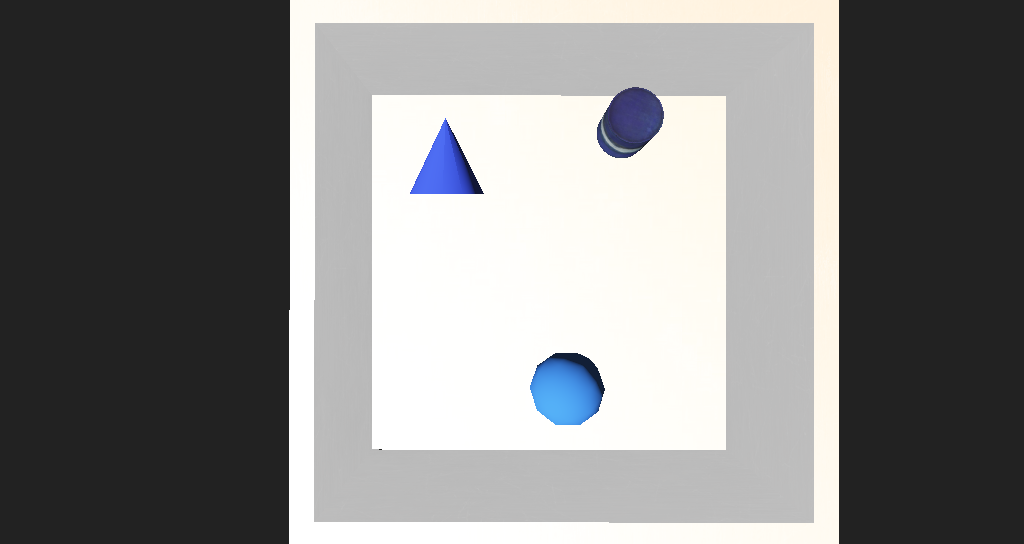cone: (546, 160, 600, 203)
cylinder: (384, 167, 451, 224)
sphere: (485, 317, 552, 360)
